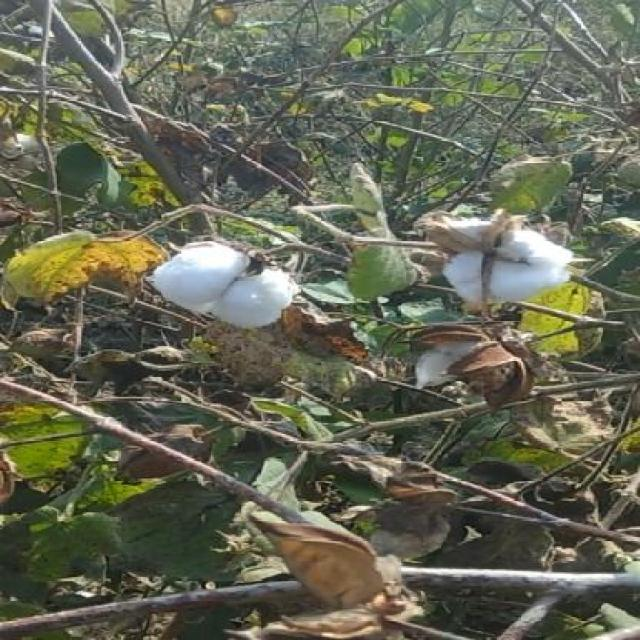cotton_ready: (394, 206, 588, 326), (121, 229, 322, 334)
